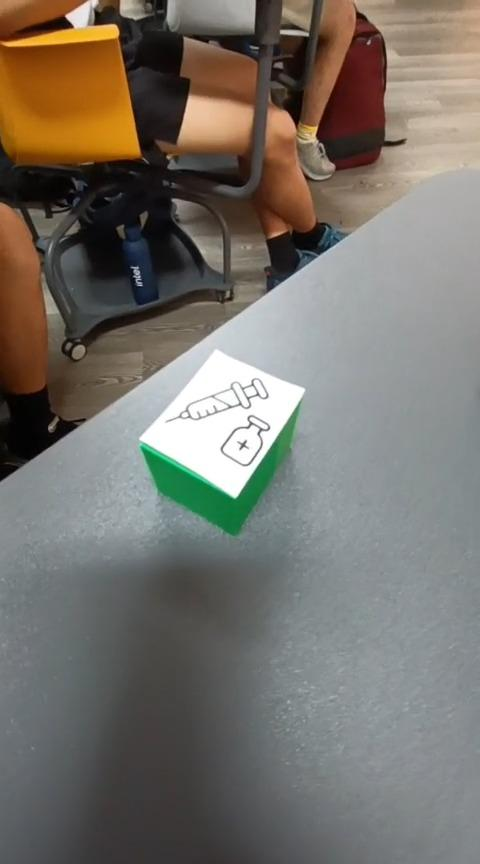antiseptic cream: (137, 347, 306, 536)
